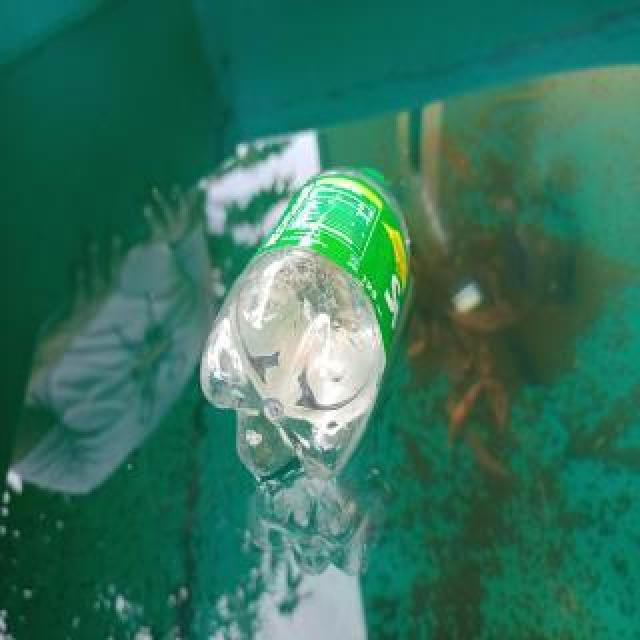bottle: (199, 161, 413, 483)
